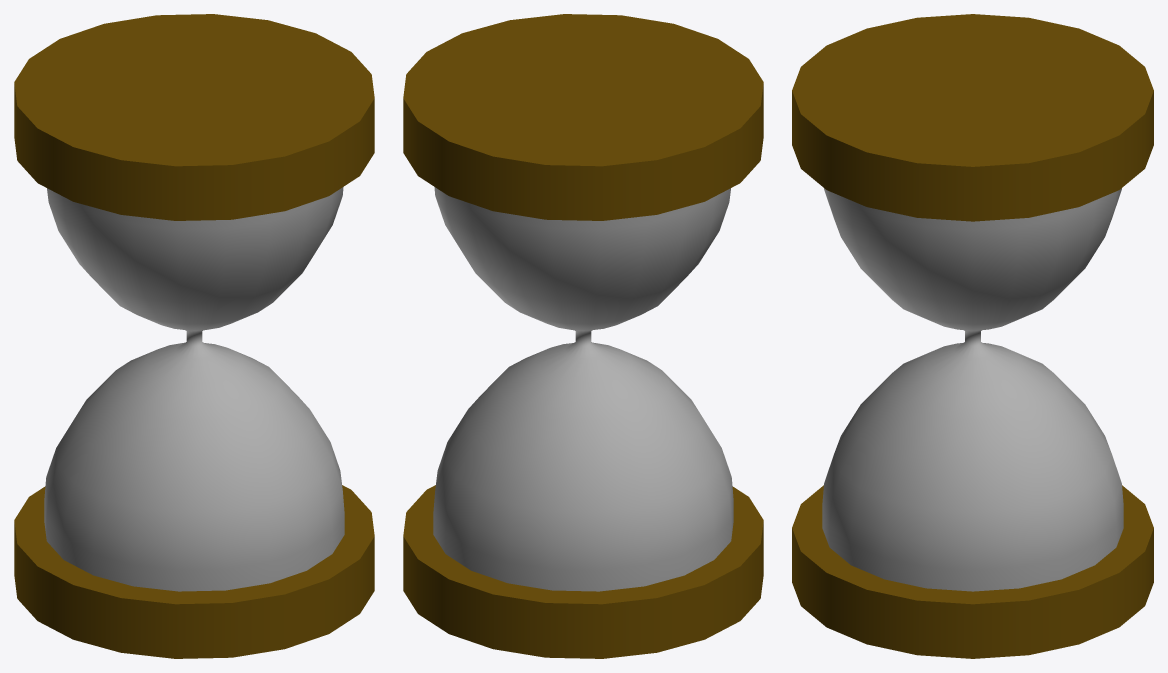
The model's file is Sandglass2.fbx.
The picture shows the model from 3 angles, left to right: view 1: azimuth 30°, elevation 25°; view 2: azimuth 150°, elevation 25°; view 3: azimuth 270°, elevation 25°; orthographic projection.
Visible parts, largest first — view 1: pCylinder5, pCylinder1, pCylinder2; view 2: pCylinder5, pCylinder1, pCylinder2; view 3: pCylinder5, pCylinder1, pCylinder2.
Boxes of the visible parts, x1,y1,x2,y2 form: pCylinder5: (44,187,344,591); pCylinder1: (14,14,374,220); pCylinder2: (14,485,374,658); pCylinder5: (433,187,733,591); pCylinder1: (403,14,763,220); pCylinder2: (403,485,763,658); pCylinder5: (822,188,1123,591); pCylinder1: (792,14,1153,221); pCylinder2: (792,485,1153,658).
Size of the model in its own units: 6 by 9 by 6.
